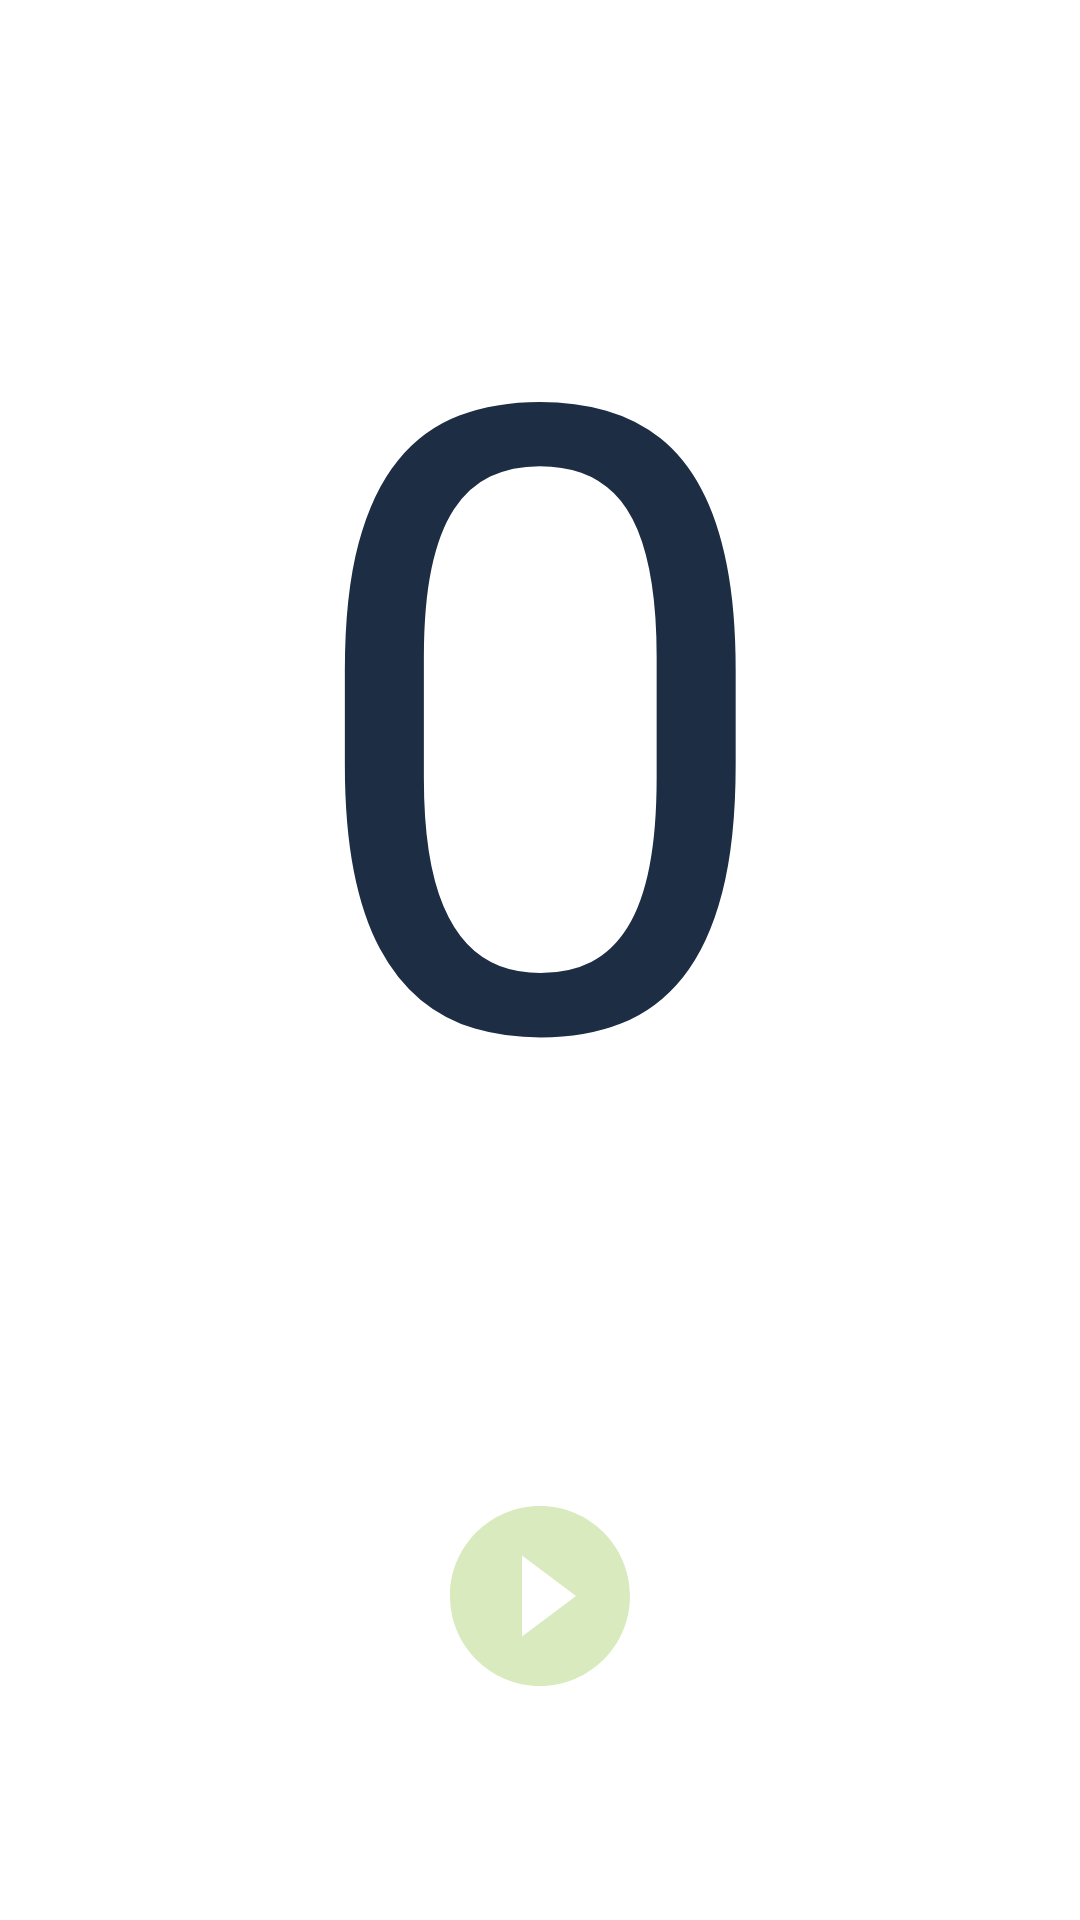

Named icons in this screenshot (1080x1920) and their bounding boxes, (x1, y1, x2, y2):
play circle: (450, 1506, 630, 1686)
